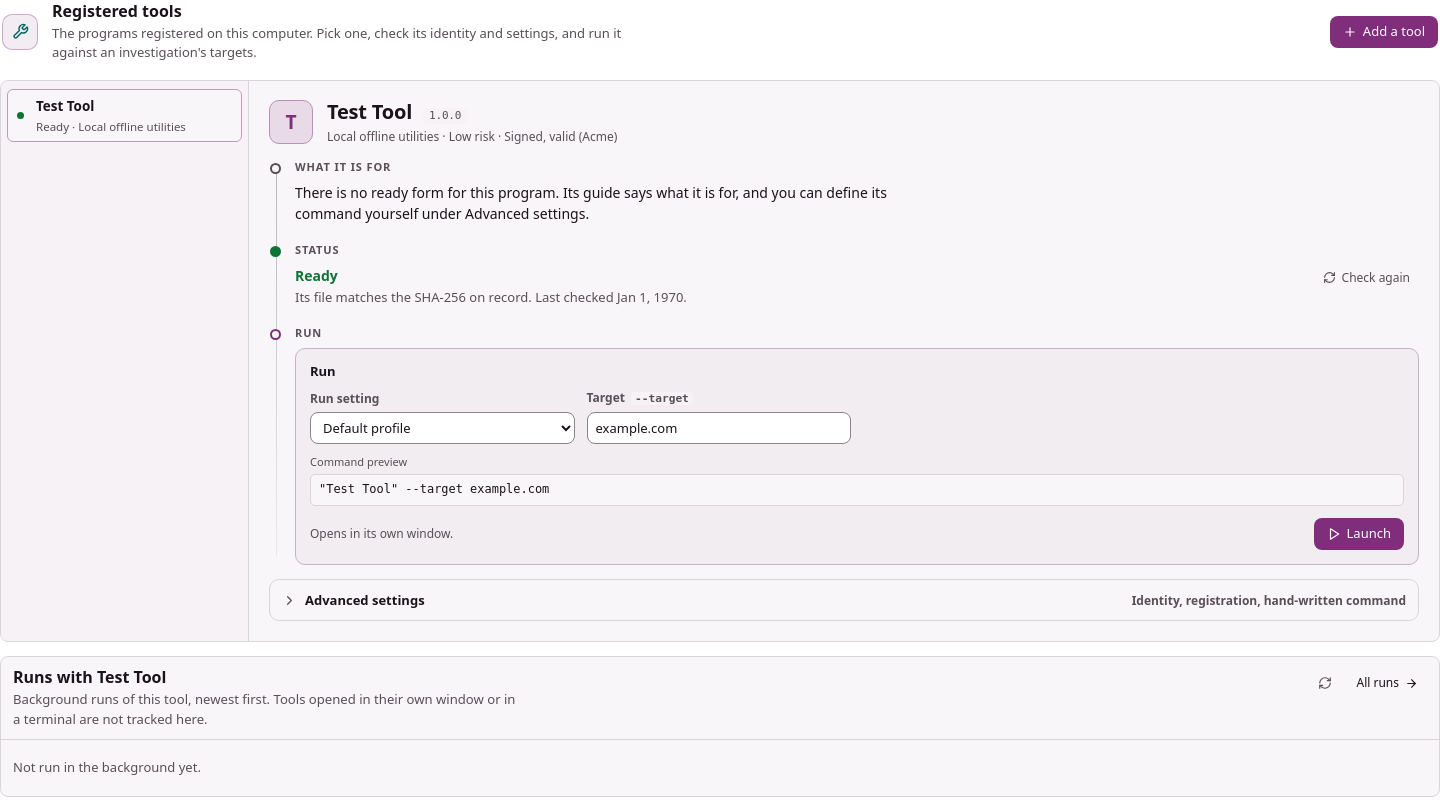
Test case: ToolLabPanel Launch router › launchKind "gui" renders a known refusal reason as translated text, never the raw Rust identifier
The width and height of the screenshot is (1440, 810).
Click the button "Launch".
click(1359, 534)  # box [1314,518,1404,550]
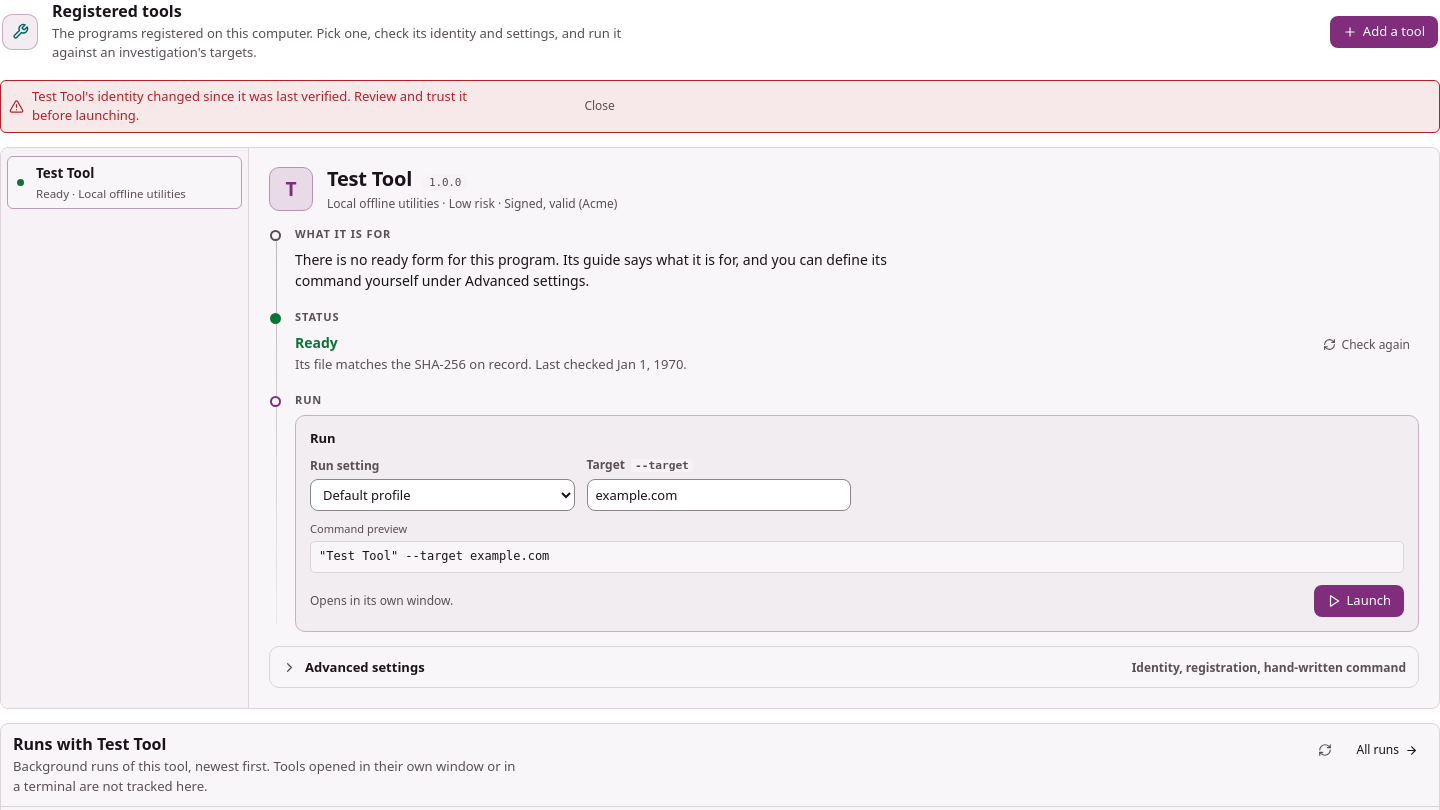
Expected: the message does not show "tool_identity_changed", [0,80,1439,133]
Expected: the message is shown, [0,80,1439,133]
Expected: the message shows "Test Tool's identity changed since it was last verified. Review and trust it before launching.", [32,87,467,124]
